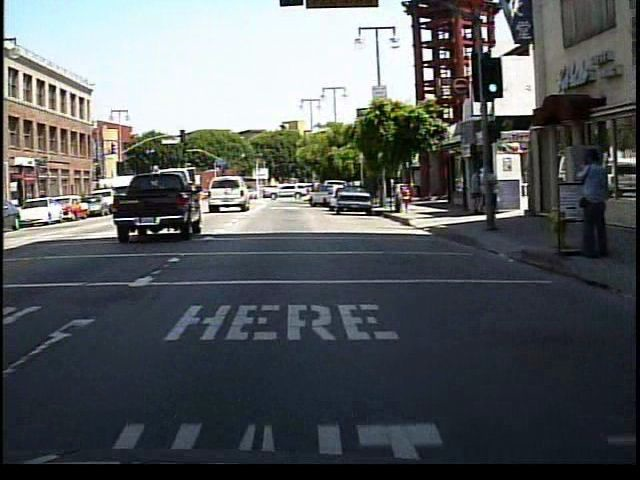person: (568, 146, 608, 262), (479, 162, 504, 230), (468, 168, 483, 217)
